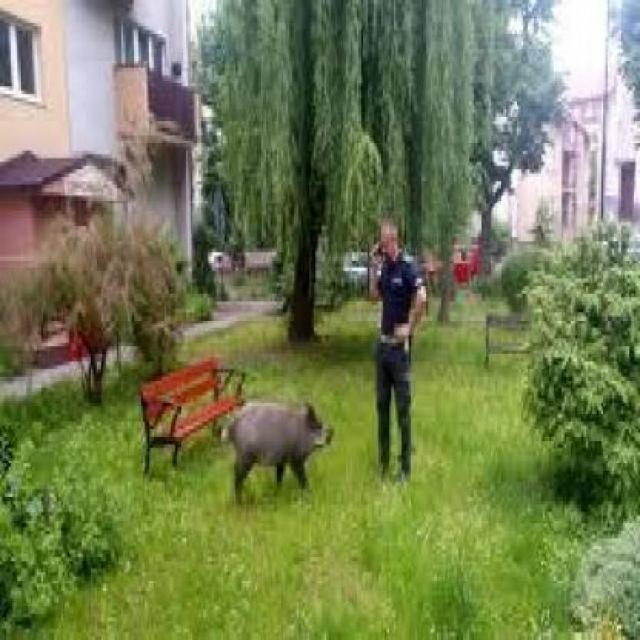Wild Boar: (220, 396, 337, 484)
